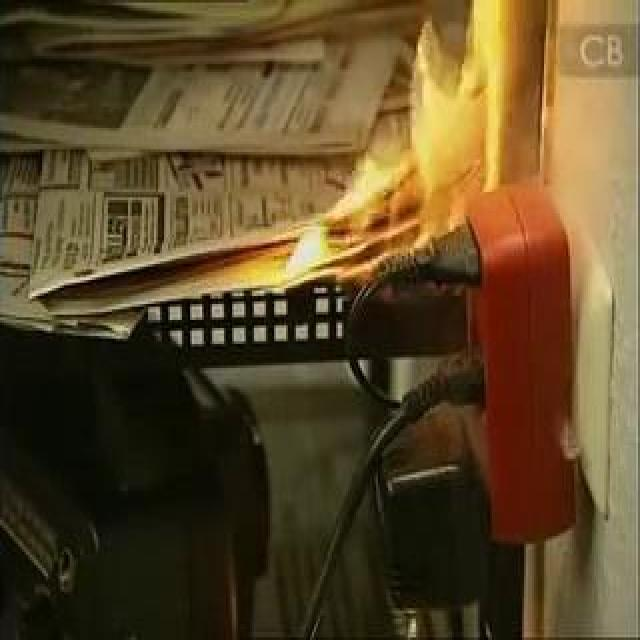Fire: (214, 3, 528, 312)
